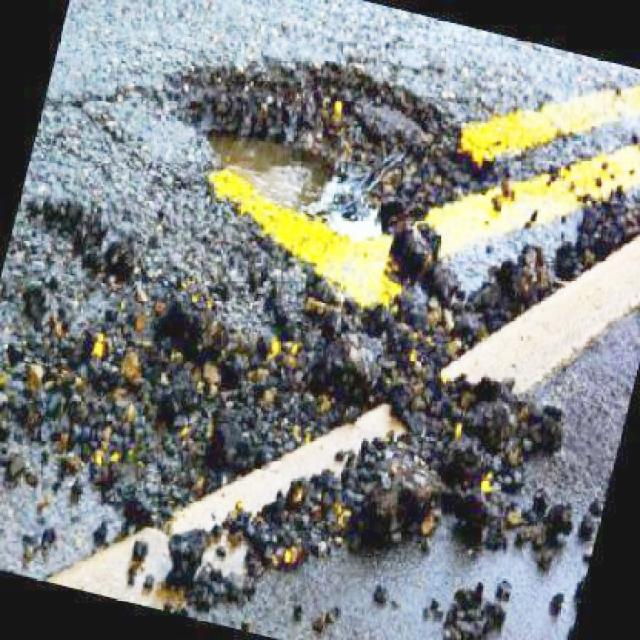pothole: (166, 43, 505, 268)
